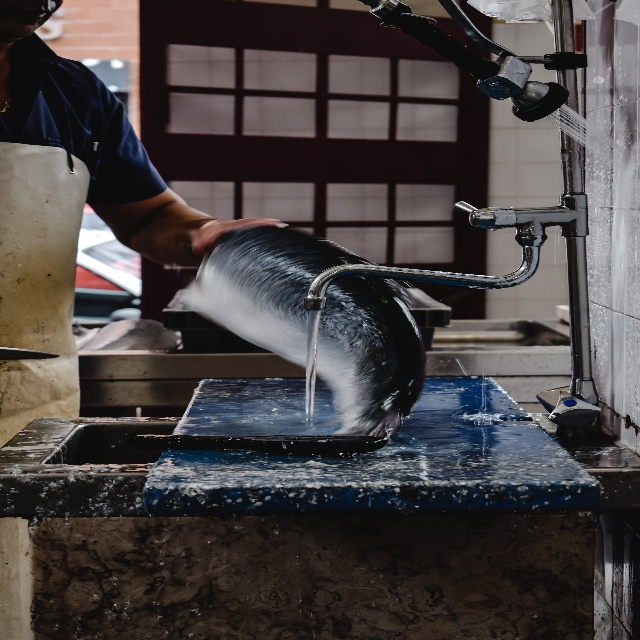Sin_guantes: (190, 207, 287, 259)
